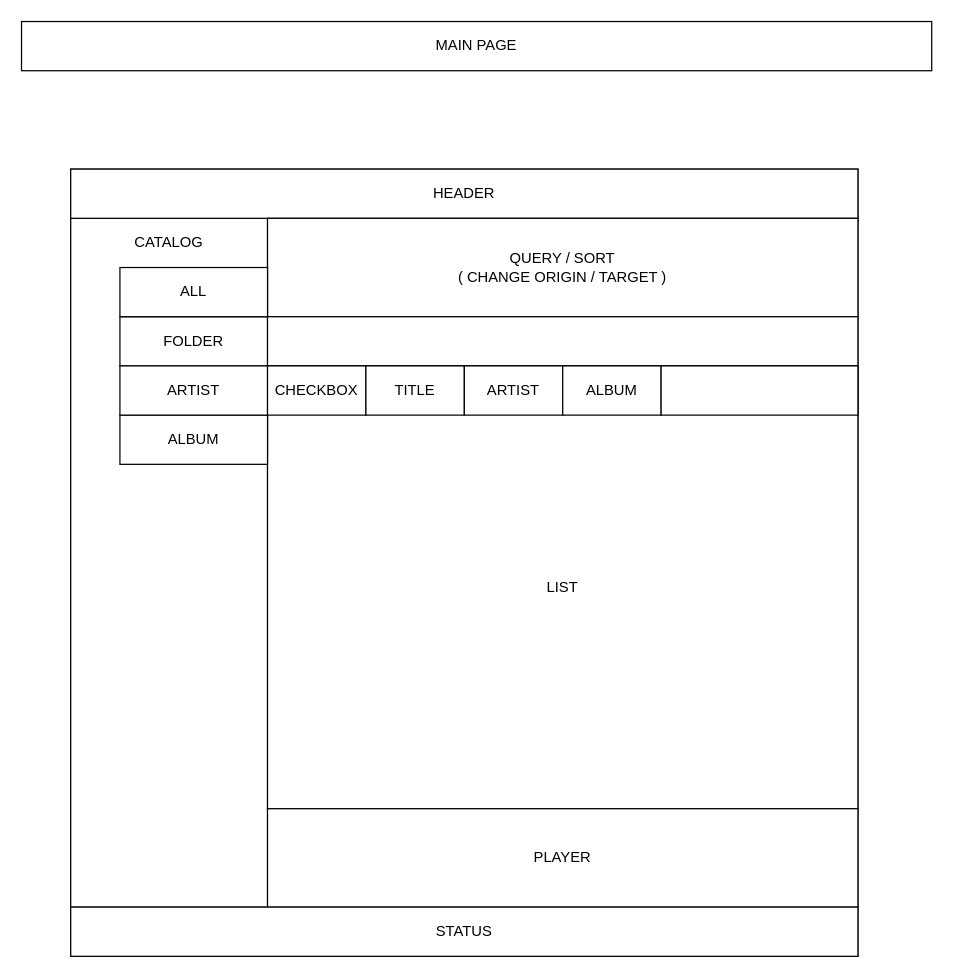
The diagram is 953 pixels wide and 978 high, and some of its shapes have lost their labels. The centre of each missing label's shape, as x and y in pixels:
"ACTION" goes at pixel 562 340.
"BUTTONS" goes at pixel 759 390.
